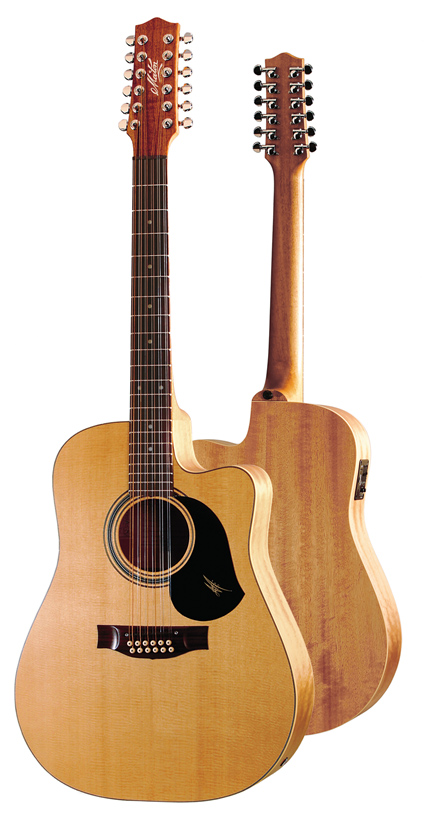guitar: (8, 16, 321, 807), (218, 52, 403, 737)
